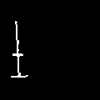double_crochet: (11, 21, 27, 76)
